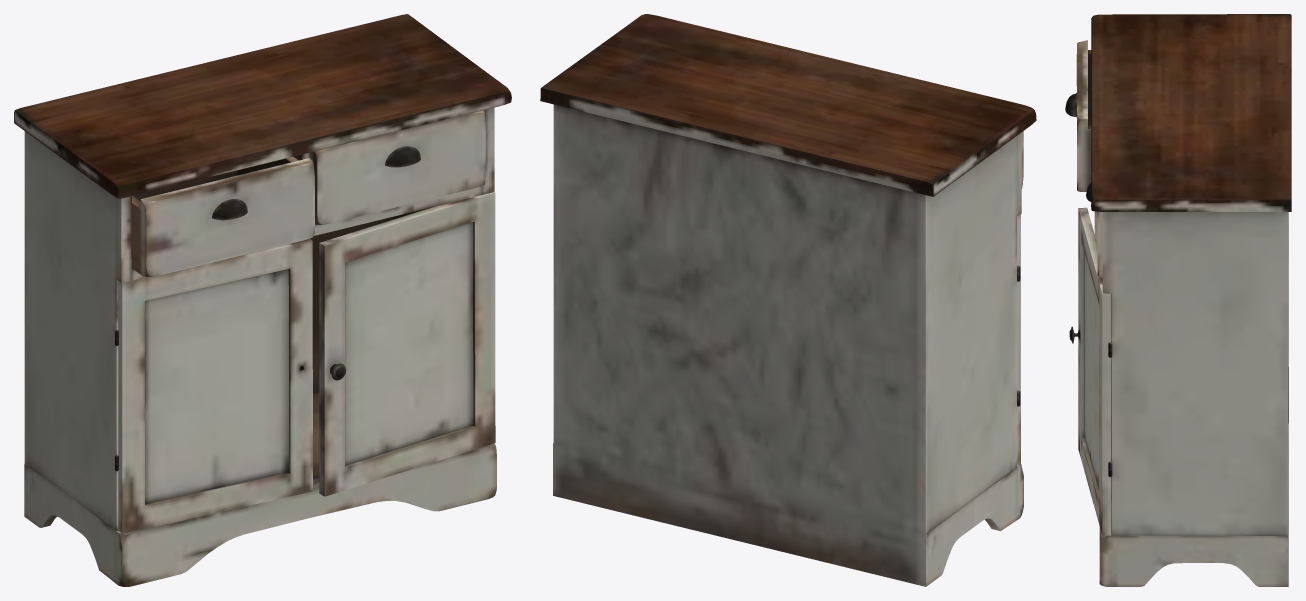
Rendered from kitchen-cabinet.glb.
3 renders of one model, left to right at view 1: azimuth 30°, elevation 25°; view 2: azimuth 150°, elevation 25°; view 3: azimuth 270°, elevation 25°, orthographic. The views are drawn at different scales.
Parts seen in each view (by area): view 1: painted_wooden_cabinet, painted_wooden_cabinet_door_01, painted_wooden_cabinet_door_02, painted_wooden_cabinet_drawer_01, painted_wooden_cabinet_drawer_02; view 2: painted_wooden_cabinet, painted_wooden_cabinet_door_01; view 3: painted_wooden_cabinet, painted_wooden_cabinet_door_02, painted_wooden_cabinet_drawer_01, painted_wooden_cabinet_drawer_02.
Boxes of the visible parts, <box> form: painted_wooden_cabinet: <box>14,14,511,586</box>; painted_wooden_cabinet_door_01: <box>118,238,312,533</box>; painted_wooden_cabinet_door_02: <box>319,192,495,496</box>; painted_wooden_cabinet_drawer_01: <box>132,156,314,277</box>; painted_wooden_cabinet_drawer_02: <box>313,110,485,224</box>; painted_wooden_cabinet: <box>540,14,1036,586</box>; painted_wooden_cabinet_door_01: <box>1017,214,1020,465</box>; painted_wooden_cabinet: <box>1091,14,1291,586</box>; painted_wooden_cabinet_door_02: <box>1069,207,1110,535</box>; painted_wooden_cabinet_drawer_01: <box>1065,40,1091,191</box>; painted_wooden_cabinet_drawer_02: <box>1086,183,1102,277</box>.
Size of the model in its own units: 1.19 by 1.18 by 0.6166.
1 material, 1 textured.
